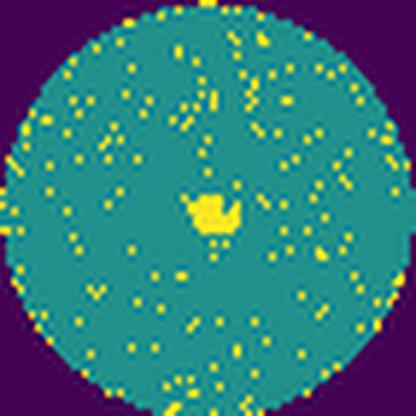Center: (184, 193, 242, 236)
